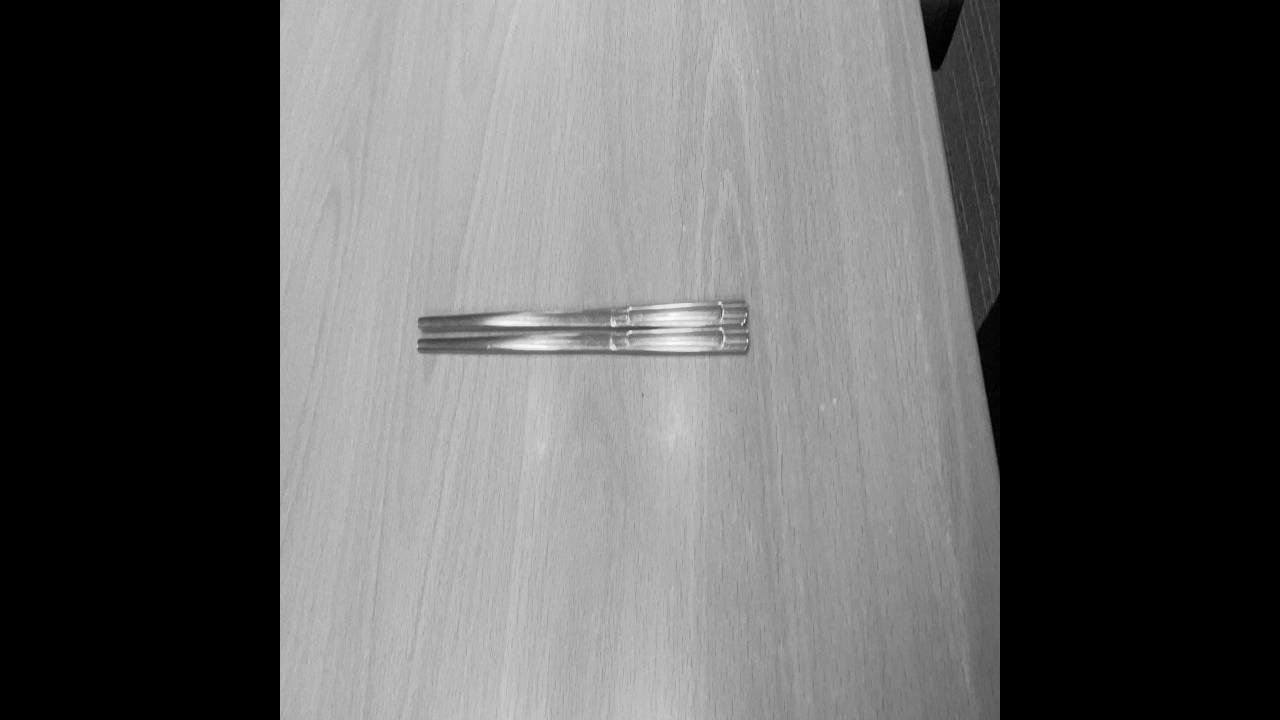chopstick: (414, 295, 749, 355)
